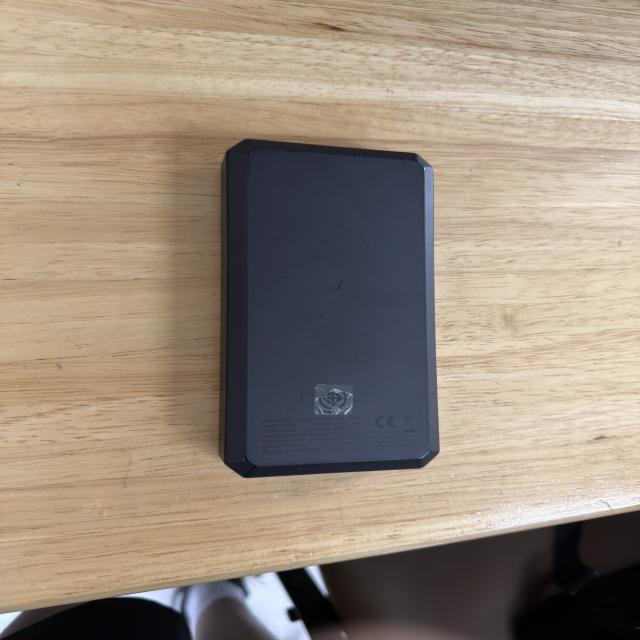power bank: (214, 128, 446, 477)
